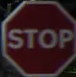Stop: (3, 4, 71, 69)
